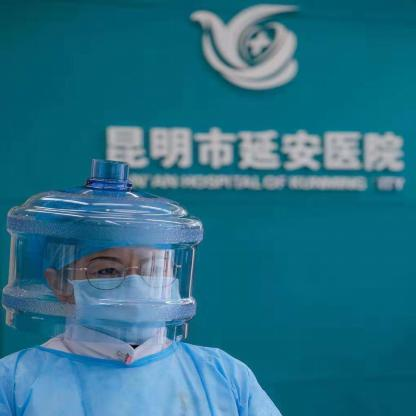Wearing_Mask: (68, 250, 180, 346)
